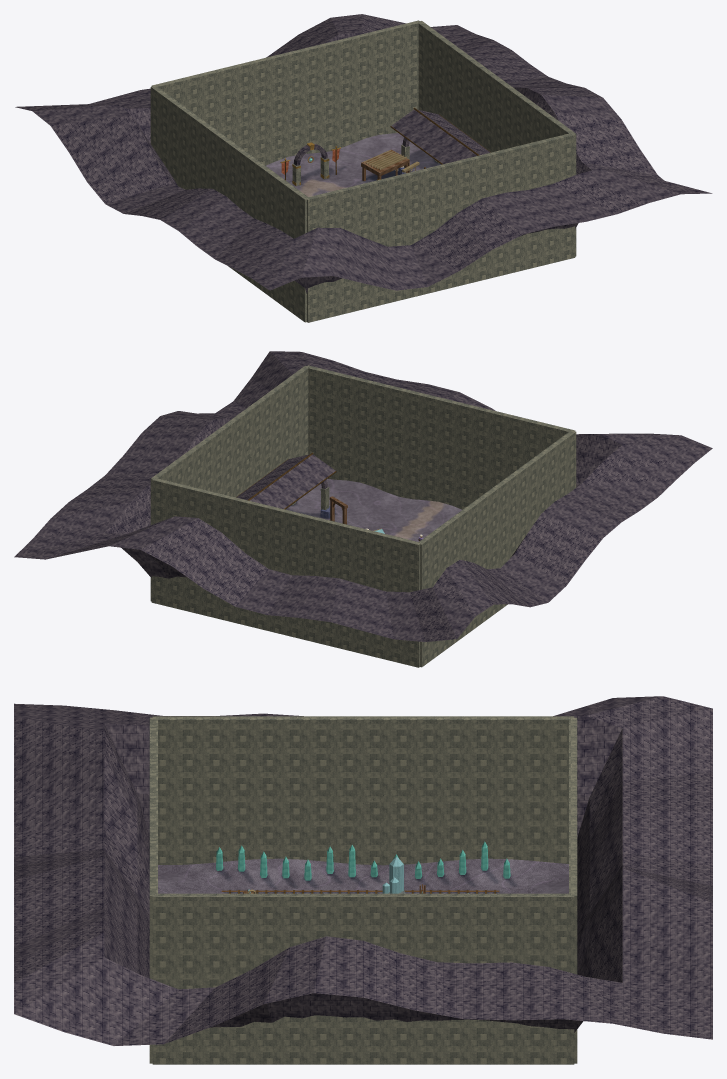
Rendered from Glasscut-c62d1d0ed13a.glb.
3 renders of one model, top to bottom at view 1: azimuth 30°, elevation 25°; view 2: azimuth 150°, elevation 25°; view 3: azimuth 270°, elevation 25°, orthographic. The views are drawn at different scales.
Visible parts, largest first — view 1: C_Solids, Rim, Set, Terrain; view 2: C_Solids, Rim, Terrain, Set; view 3: Rim, C_Solids, Terrain, Set.
Boxes of the visible parts, box(x1,y1,x2,y2) form: C_Solids: box(150, 20, 576, 322); Rim: box(15, 14, 712, 293); Set: box(280, 107, 490, 185); Terrain: box(266, 133, 440, 196); C_Solids: box(150, 365, 576, 667); Rim: box(14, 351, 712, 641); Terrain: box(285, 478, 461, 541); Set: box(236, 452, 347, 524); Rim: box(14, 696, 712, 1045); C_Solids: box(149, 716, 577, 1064); Terrain: box(158, 858, 568, 893); Set: box(216, 841, 510, 893).
Bounding box in the file's own units: 68 × 18 × 68.
Materials: 12 (12 with a texture image).
